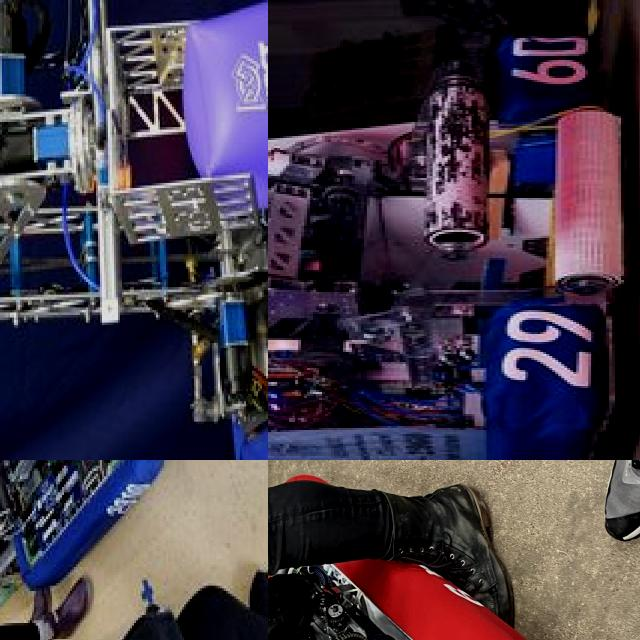FRC-Robots: (268, 15, 614, 460), (0, 0, 268, 460), (268, 473, 584, 640), (0, 460, 195, 640)
